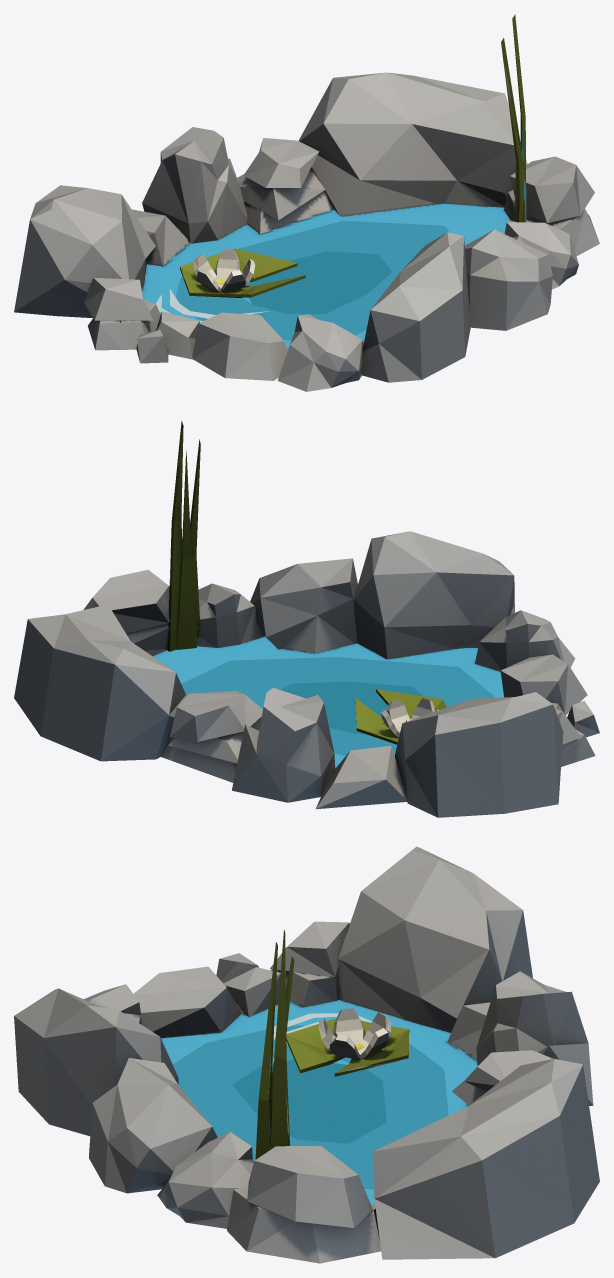
The model's file is PUSHILIN_pond.gltf.
3 views of the same model, one above another, from view 1: azimuth 30°, elevation 25°; view 2: azimuth 150°, elevation 25°; view 3: azimuth 270°, elevation 25° (orthographic). The views are drawn at different scales.
Parts seen in each view (by area): view 1: node-0; view 2: node-0; view 3: node-0.
Part boxes in pixels (box(x1,y1,x2,y2)): node-0: box(14, 14, 599, 391); node-0: box(14, 421, 599, 817); node-0: box(14, 846, 599, 1263).
Bounding box in the file's own units: 2.19 × 0.929 × 1.75.
1 material, 1 textured.
